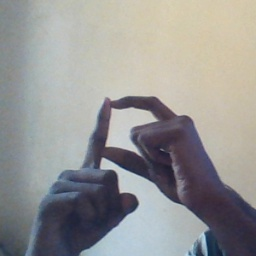D: (62, 90, 196, 205)
